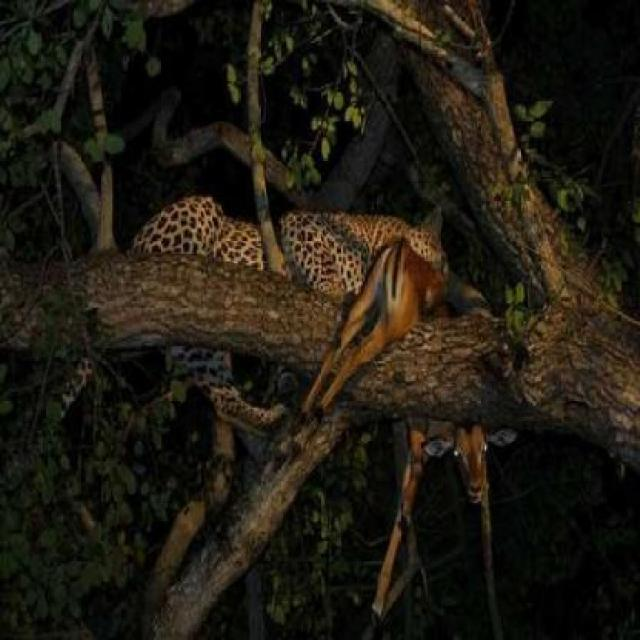Leopard: (111, 164, 537, 419)
